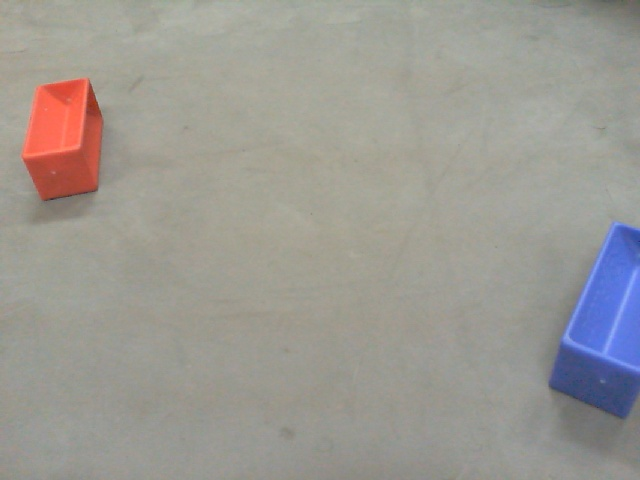BlueSample: (547, 216, 640, 425)
RedSample: (18, 76, 105, 207)
